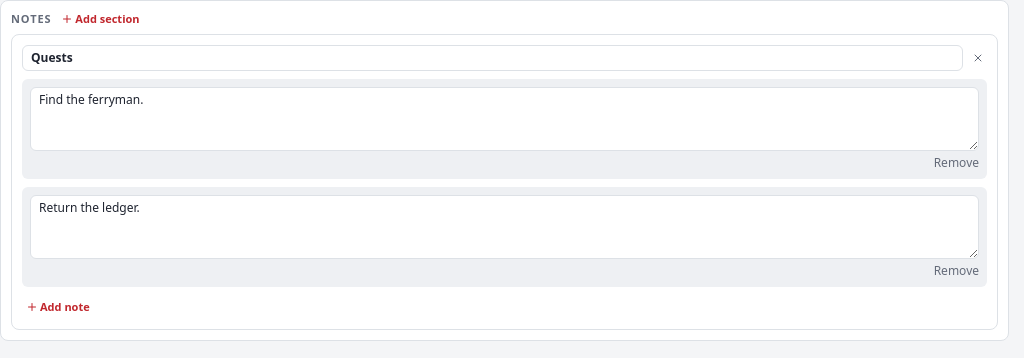
Scenario: NotesSection › removes a note and then its section, moving focus to the button that adds one back
Click the button with aria-label "Remove note 1": (956, 162) x1=934 y1=154 x2=979 y2=170
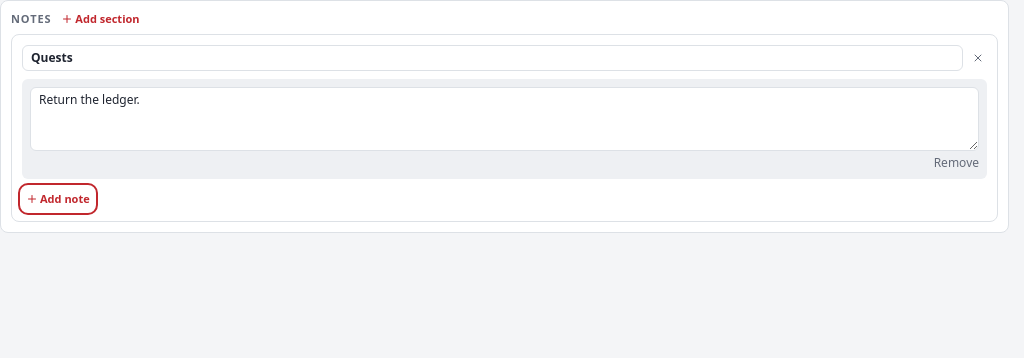
Click the button named "Remove section Quests": (978, 58) x1=969 y1=48 x2=987 y2=66
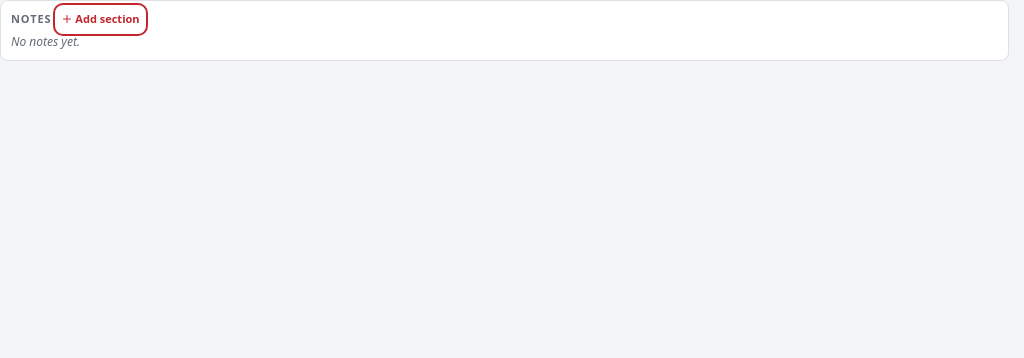
Result: the text "No notes yet." is shown at x1=11 y1=32 x2=80 y2=50
